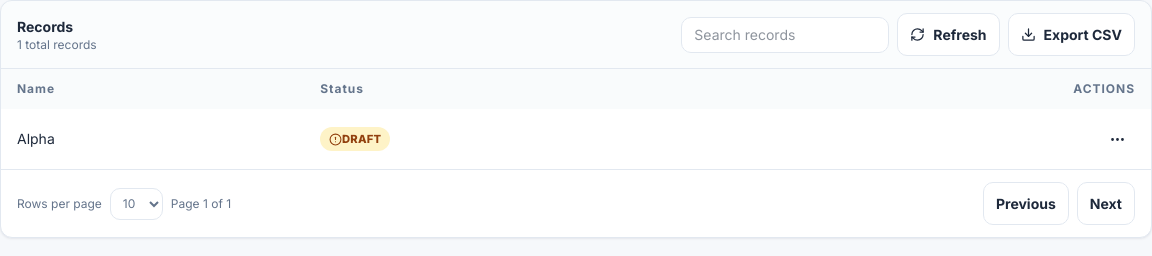
DataTable › gates row actions by permission and record state
The width and height of the screenshot is (1152, 256).
Later steps or results of the test are not shown.
Click the button named "Actions for row 1": (1117, 139) x1=1099 y1=121 x2=1135 y2=157
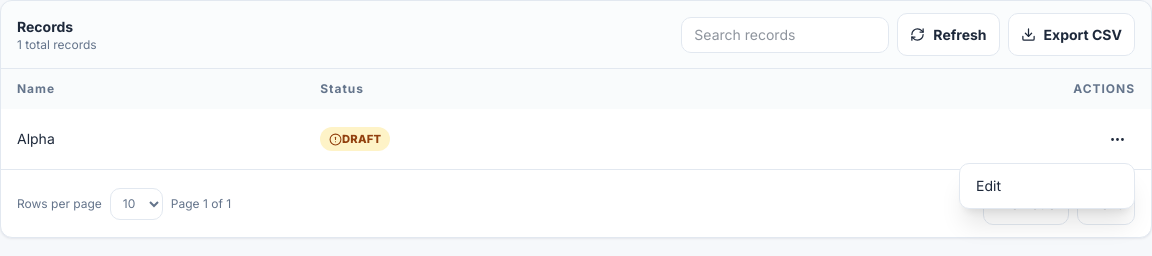
Result: the button "Edit" is shown at x1=964 y1=168 x2=1130 y2=204
